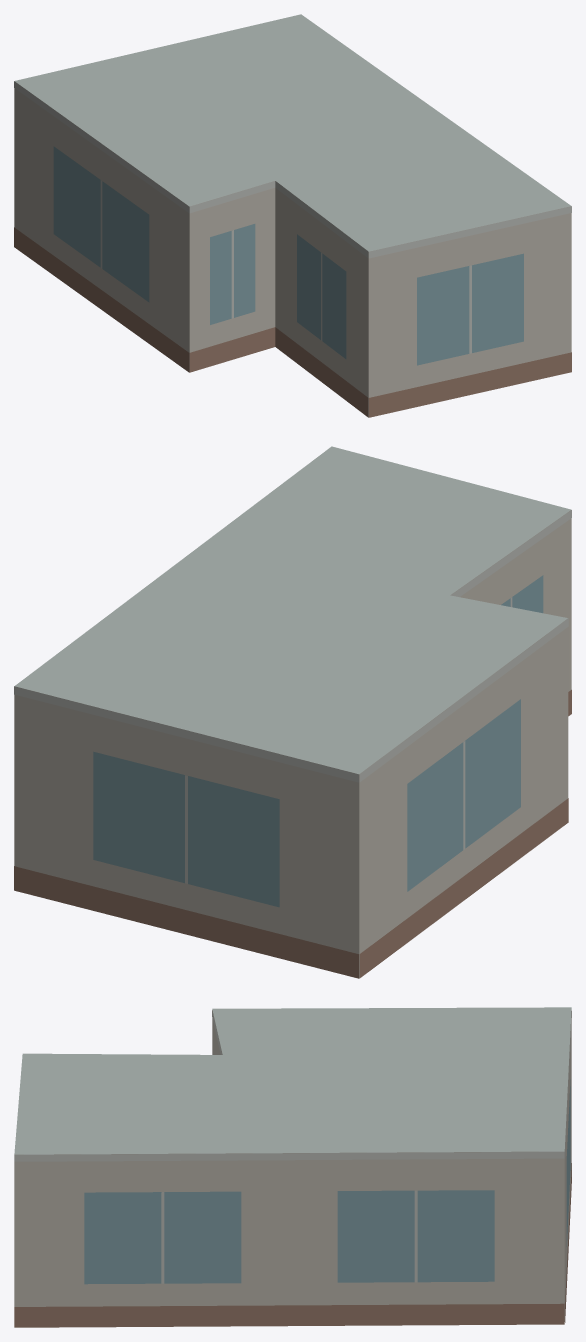
The model's file is survey-upis-32638505.glb.
The picture shows the model from 3 angles, top to bottom: view 1: azimuth 30°, elevation 25°; view 2: azimuth 150°, elevation 25°; view 3: azimuth 270°, elevation 25°; orthographic projection. The views are drawn at different scales.
Visible parts, largest first — view 1: survey-upis-32638505.tmp; view 2: survey-upis-32638505.tmp; view 3: survey-upis-32638505.tmp.
Boxes of the visible parts, left/top/right/bottom form: survey-upis-32638505.tmp: left=14, top=14, right=571, bottom=417; survey-upis-32638505.tmp: left=14, top=446, right=571, bottom=978; survey-upis-32638505.tmp: left=14, top=1007, right=571, bottom=1327.
Size of the model in its own units: 5.59 by 3.05 by 8.92.
